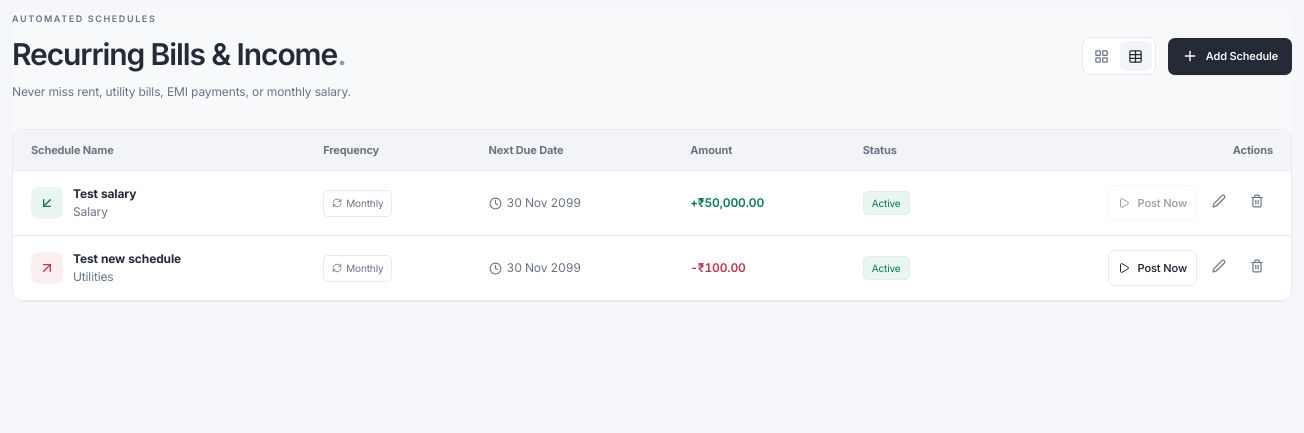
Test: RecurringPage › switches between grid and table views without losing schedule actions
Click the button named "Grid view": x=1102, y=56 [1086, 41, 1118, 71]
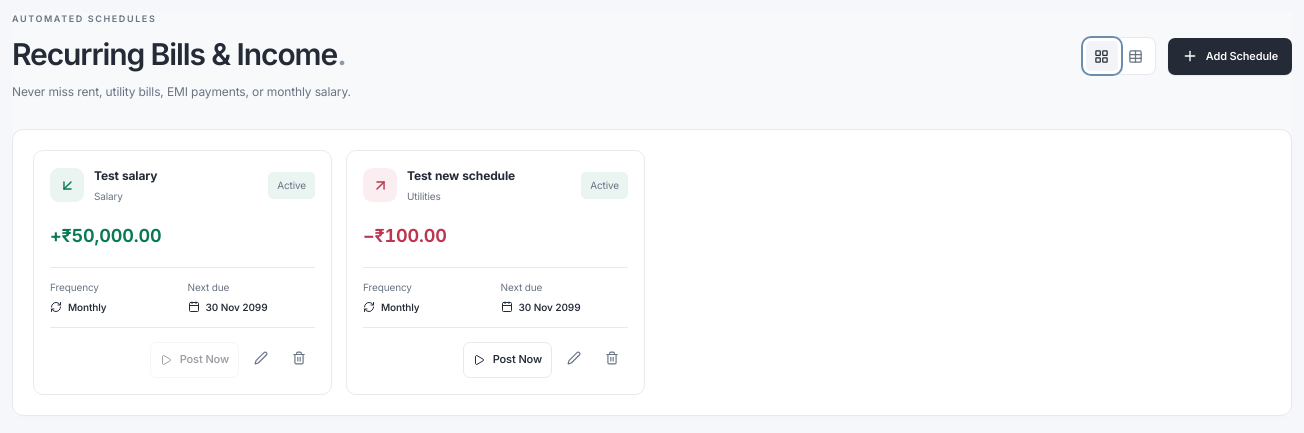
Check: the button named "Edit Test salary" is shown, box [245, 342, 277, 374]
Check: the number of buttons "Post Now" is 2, box [150, 342, 239, 378]; [463, 342, 552, 378]
Click the button named "Table view": x=1136, y=56 [1120, 41, 1152, 71]
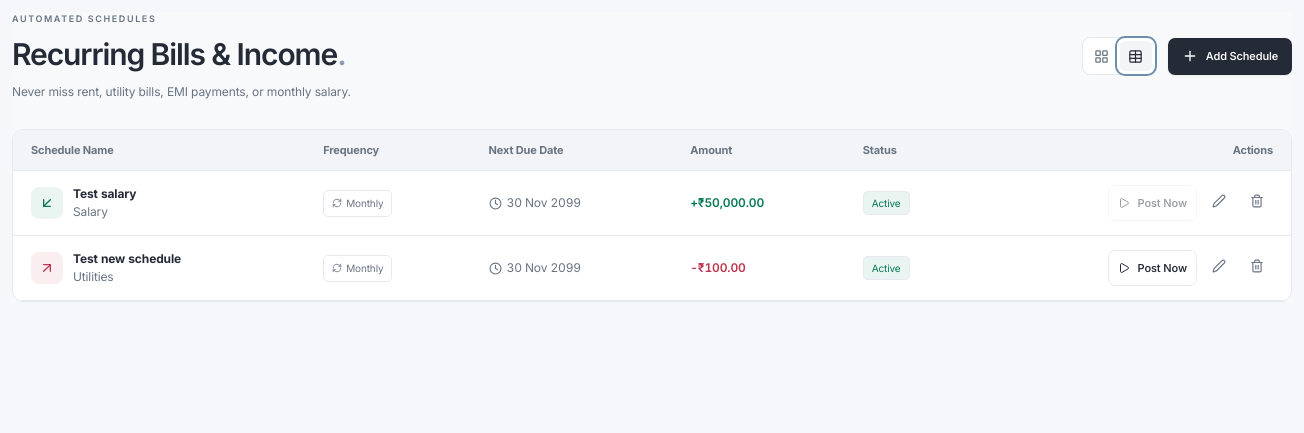
Check: the column heading "Schedule Name" is shown, box [13, 130, 305, 170]
